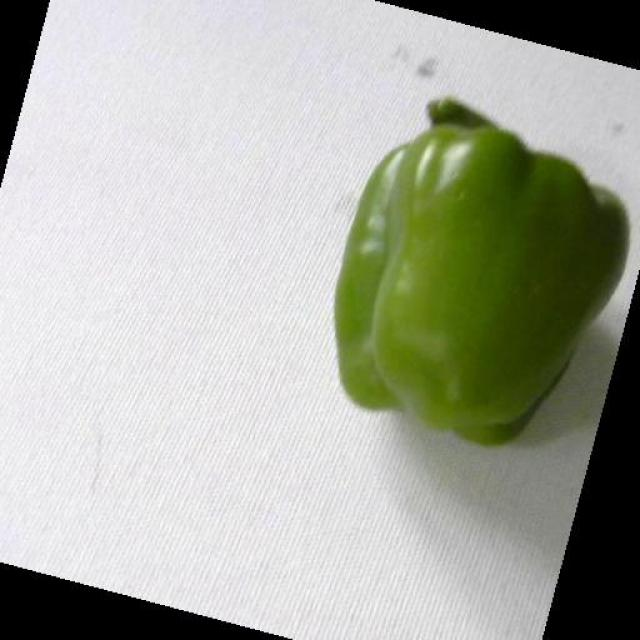Fresh_Capsicum: (321, 85, 640, 464)
